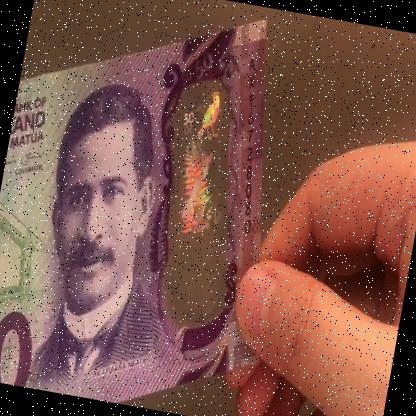50F: (147, 83, 253, 328)
